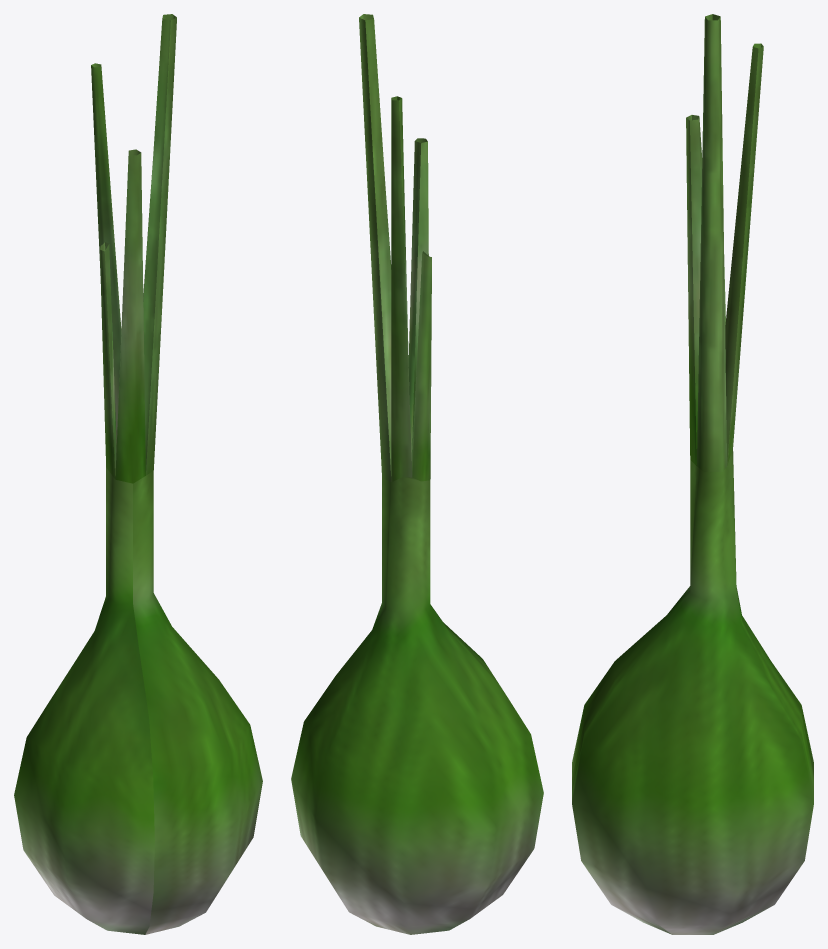
File: Vegetables01_7.FBX
3 views of the same model, side by side, from view 1: azimuth 30°, elevation 25°; view 2: azimuth 150°, elevation 25°; view 3: azimuth 270°, elevation 25° (orthographic). The views are drawn at different scales.
Visible parts, largest first — view 1: Vegetables01_7; view 2: Vegetables01_7; view 3: Vegetables01_7.
Boxes of the visible parts, <box> form: Vegetables01_7: <box>14,14,262,934</box>; Vegetables01_7: <box>291,14,543,934</box>; Vegetables01_7: <box>572,14,813,934</box>.
Size of what is drawn, in the model's own units: 0.0561 by 0.236 by 0.0561.
